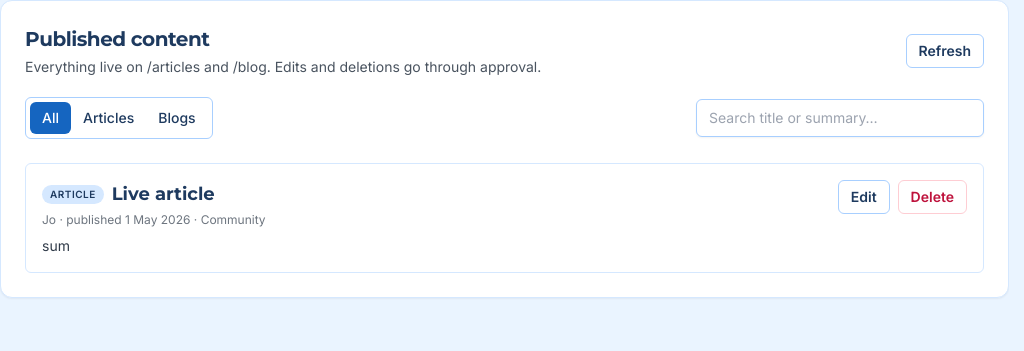
Test: PublishedContent › shows an item error when the edit POST returns non-ok
The image size is (1024, 351).
Click the button "Edit" at {"x": 864, "y": 197}, box [838,180,890,214]
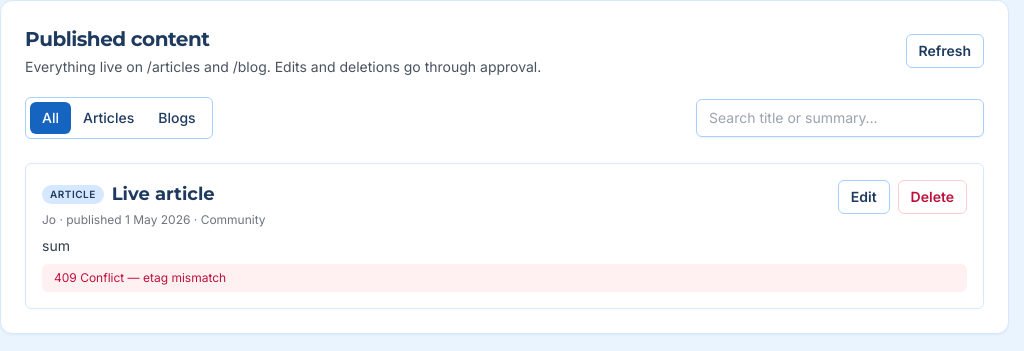
Expected: the text "409" is shown, [54,270,226,285]
